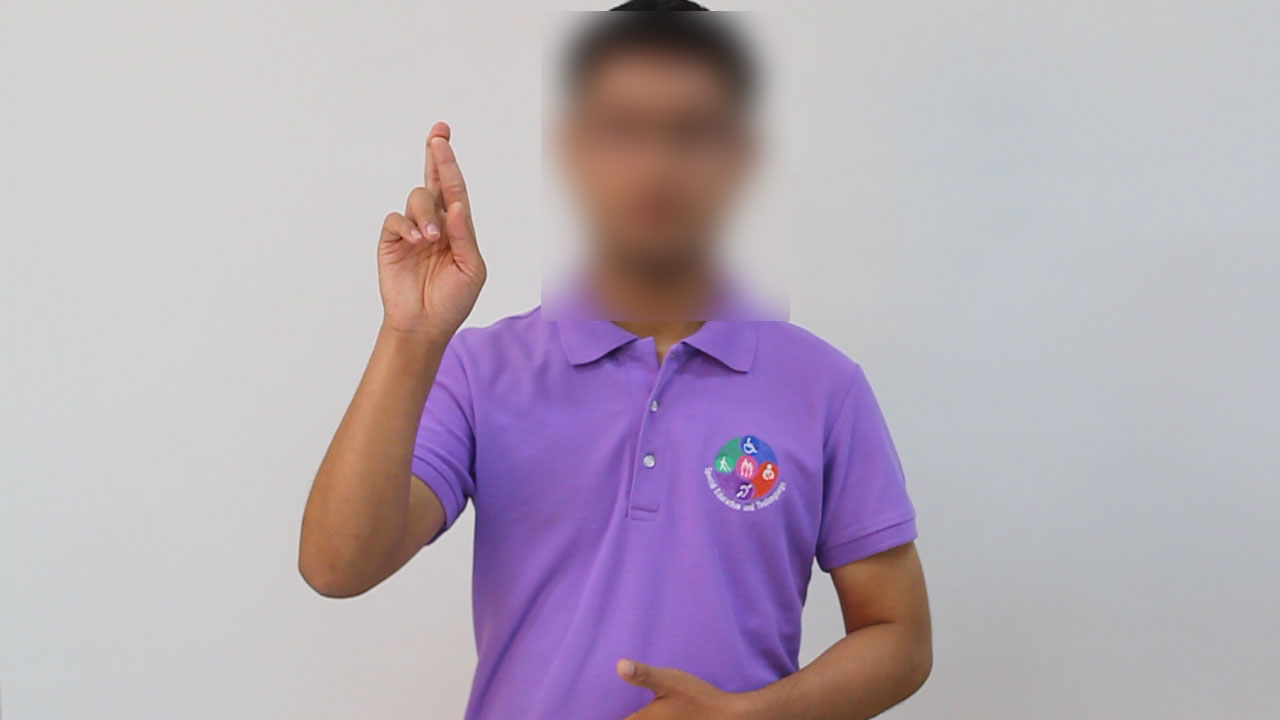rao: (355, 117, 498, 366)
